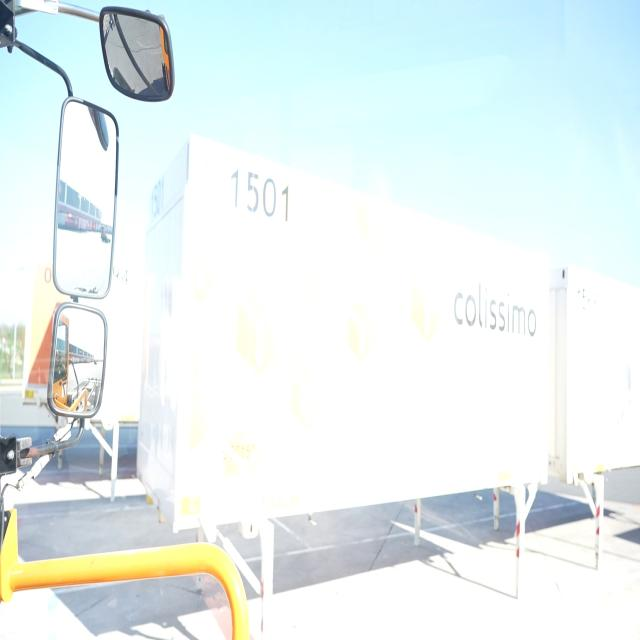Code: (226, 162, 294, 232)
